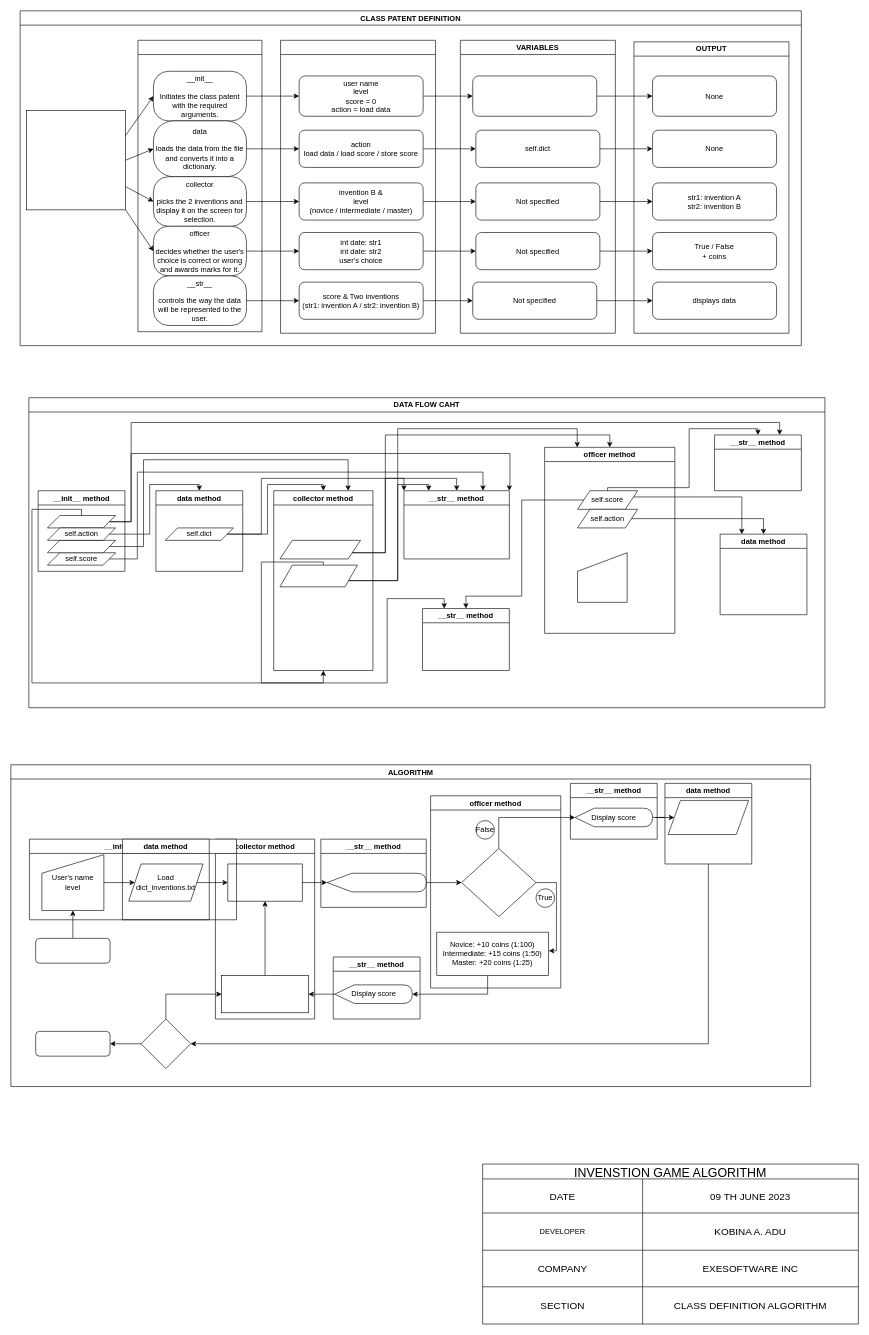
This 869x1335 diagram has some shape labels left out. The centre of each missing label's shape, as x and y in pixels:
"choose Two inventions (level)" belongs at point (264, 882).
"class patent: __init__ data collector officer display" belongs at point (76, 160).
"Display inventions A & B" belongs at point (376, 882).
"INPUTS" belongs at point (358, 186).
"int date: invention A" belongs at point (320, 549).
"int date: invention B" belongs at point (318, 576).
"Invention A or Invention B" belongs at point (498, 882).
"Invention B = A new invention B is selected" belongs at point (264, 994).
"METHOD DESCRIPTION" belongs at point (199, 186).
"Program begins" belongs at point (72, 950).
"Program ends" belongs at point (72, 1043).
"replay or exit" belongs at point (165, 1043).
"self.level" belongs at point (81, 546).
"self.name" belongs at point (81, 521).
"self.name: str self.level: int self.score: int self.action: str" belongs at point (534, 95).
"store highest score user.txt" belongs at point (708, 817).
"user input" belongs at point (602, 577).
